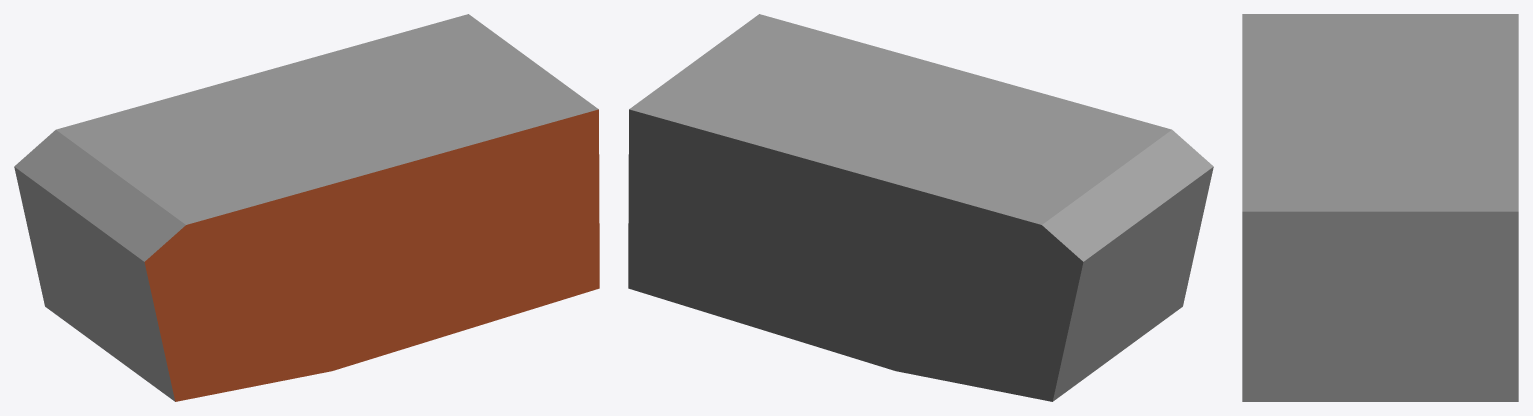
File: construction_2626_assumed_A_Casa_h6m.obj
3 views of the same model, side by side, from view 1: azimuth 30°, elevation 25°; view 2: azimuth 150°, elevation 25°; view 3: azimuth 270°, elevation 25° (orthographic). The views are drawn at different scales.
Visible parts, largest first — view 1: construction_2626_assumed_A_Casa; view 2: construction_2626_assumed_A_Casa; view 3: construction_2626_assumed_A_Casa.
Part boxes in pixels (x1,y1,x2,y2): construction_2626_assumed_A_Casa: [14, 14, 599, 401]; construction_2626_assumed_A_Casa: [628, 14, 1213, 401]; construction_2626_assumed_A_Casa: [1242, 14, 1518, 401].
Bounding box in the file's own units: 12.1 × 5 × 6.
